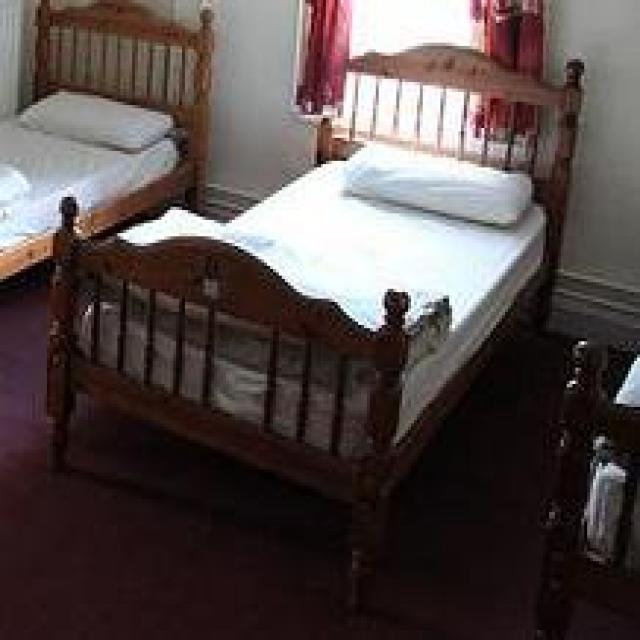bed: (41, 39, 584, 614), (0, 0, 214, 312)
